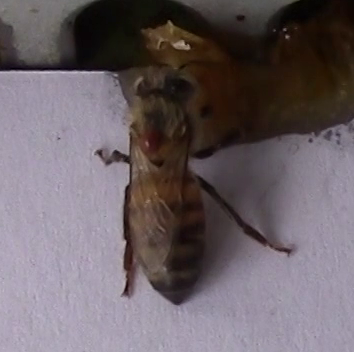Varroa destructor: (135, 125, 165, 157)
